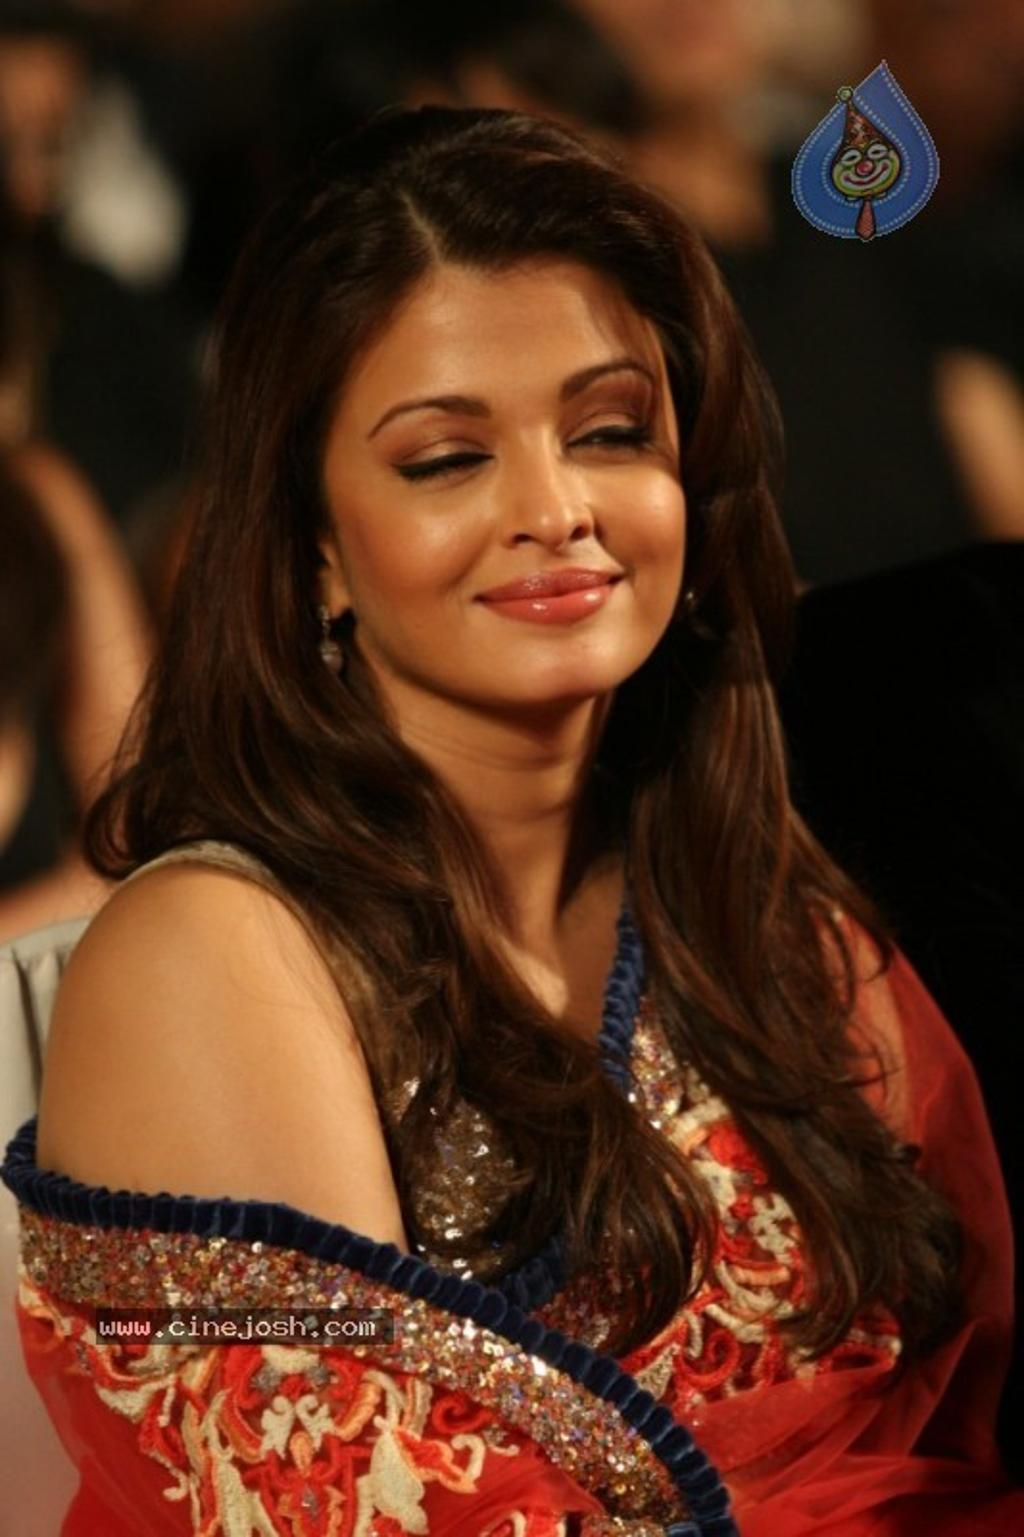face: (315, 240, 693, 699)
